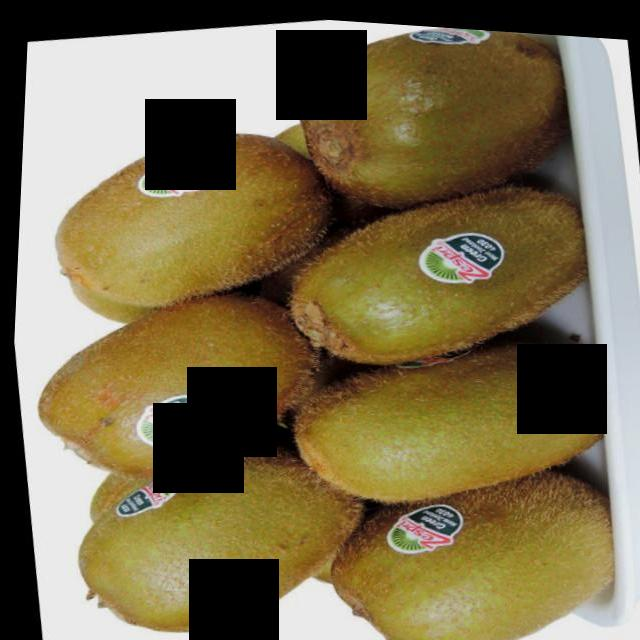kiwi: (60, 415, 382, 640), (17, 268, 328, 499), (278, 163, 603, 384), (281, 314, 615, 522), (36, 108, 339, 325), (312, 438, 627, 640), (281, 16, 583, 224)
